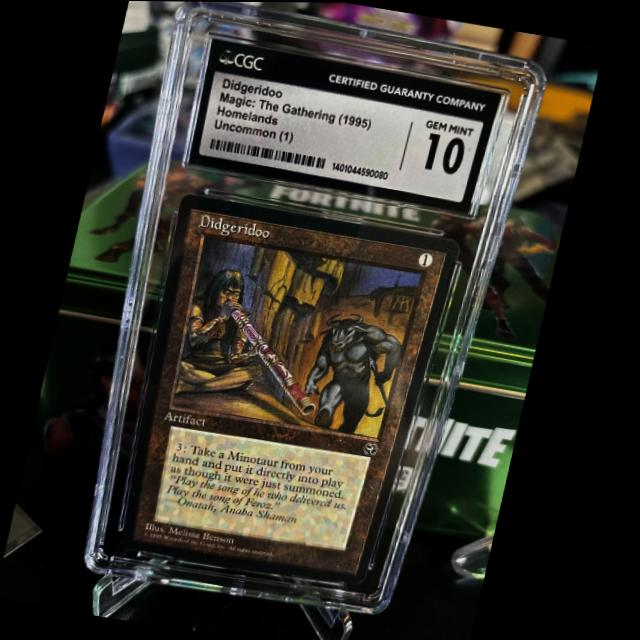card: (125, 193, 465, 584)
cgc_label: (188, 39, 504, 215)
cgc_slab: (89, 1, 553, 616)
